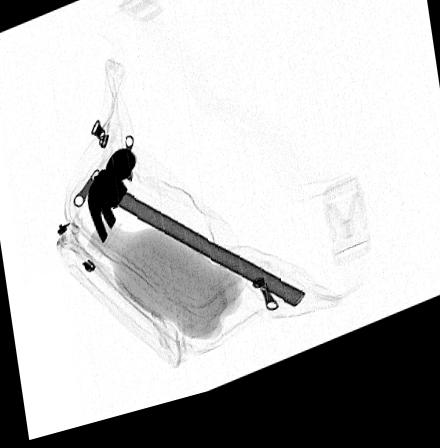Hammer: (86, 154, 304, 324)
